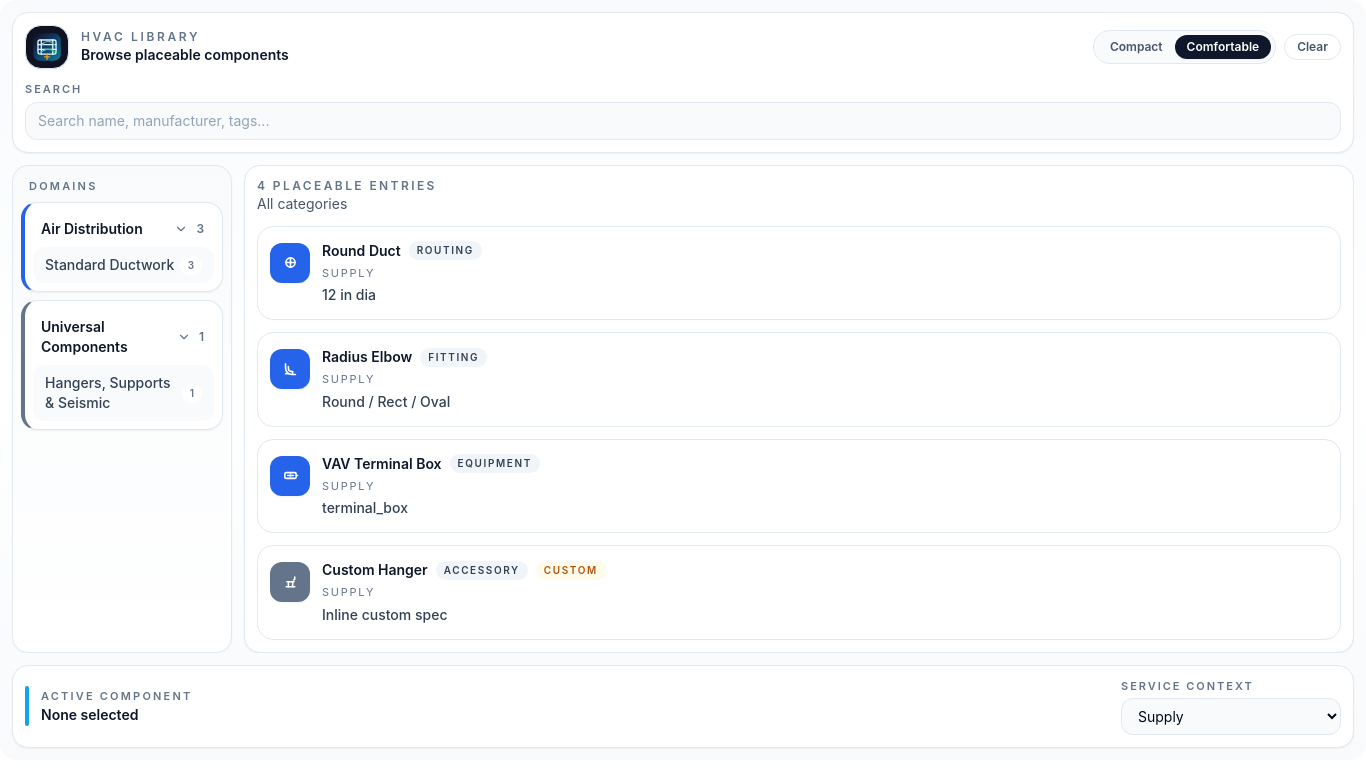
Test: CatalogPanel › collapses domain groups and narrows the tree to search matches
Expected: the button with test id "catalog-category-standard_ductwork" is shown, [33,247,214,283]
Click the button with test id "catalog-root-air_distribution": {"x": 124, "y": 229} [33,211,214,247]
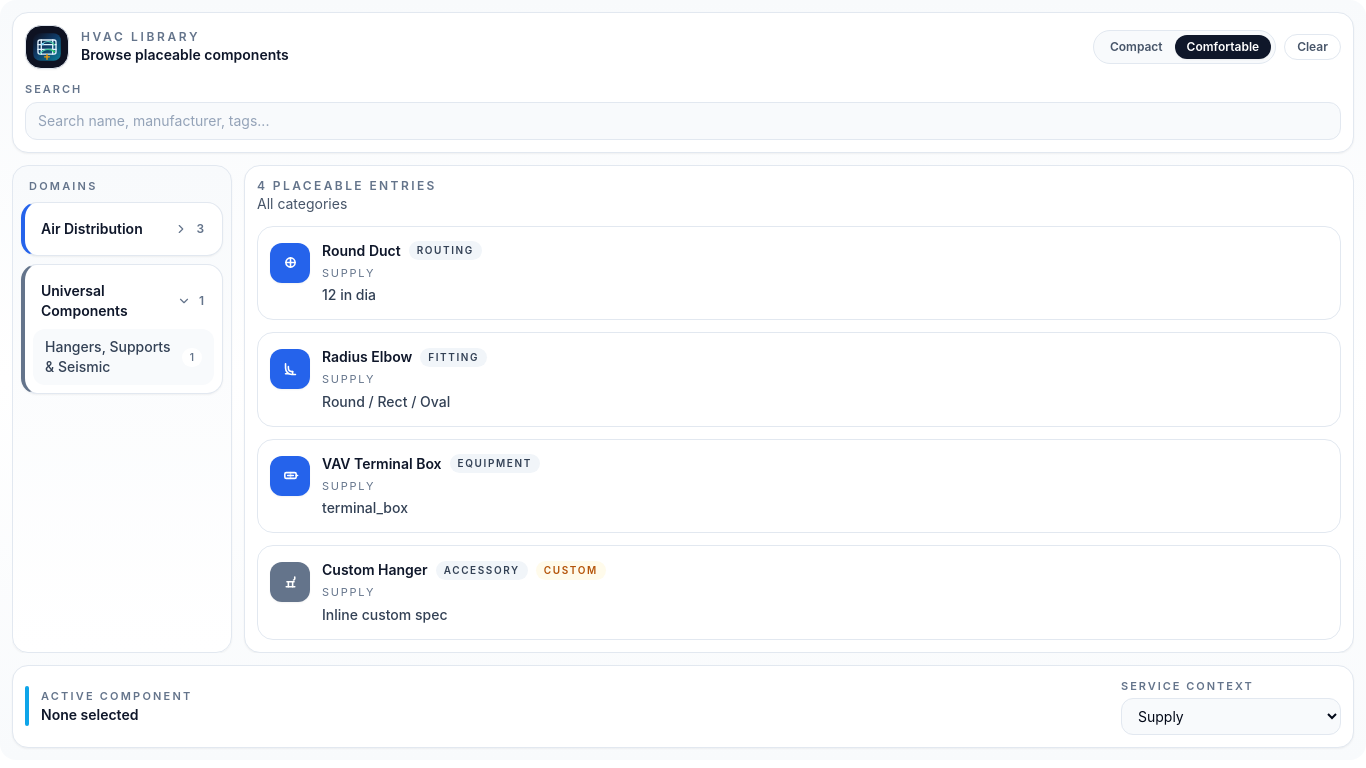
Result: the button with test id "catalog-category-standard_ductwork" is gone
In the field labelled "Search": {"x": 683, "y": 120} [25,102,1341,140], type "supports"
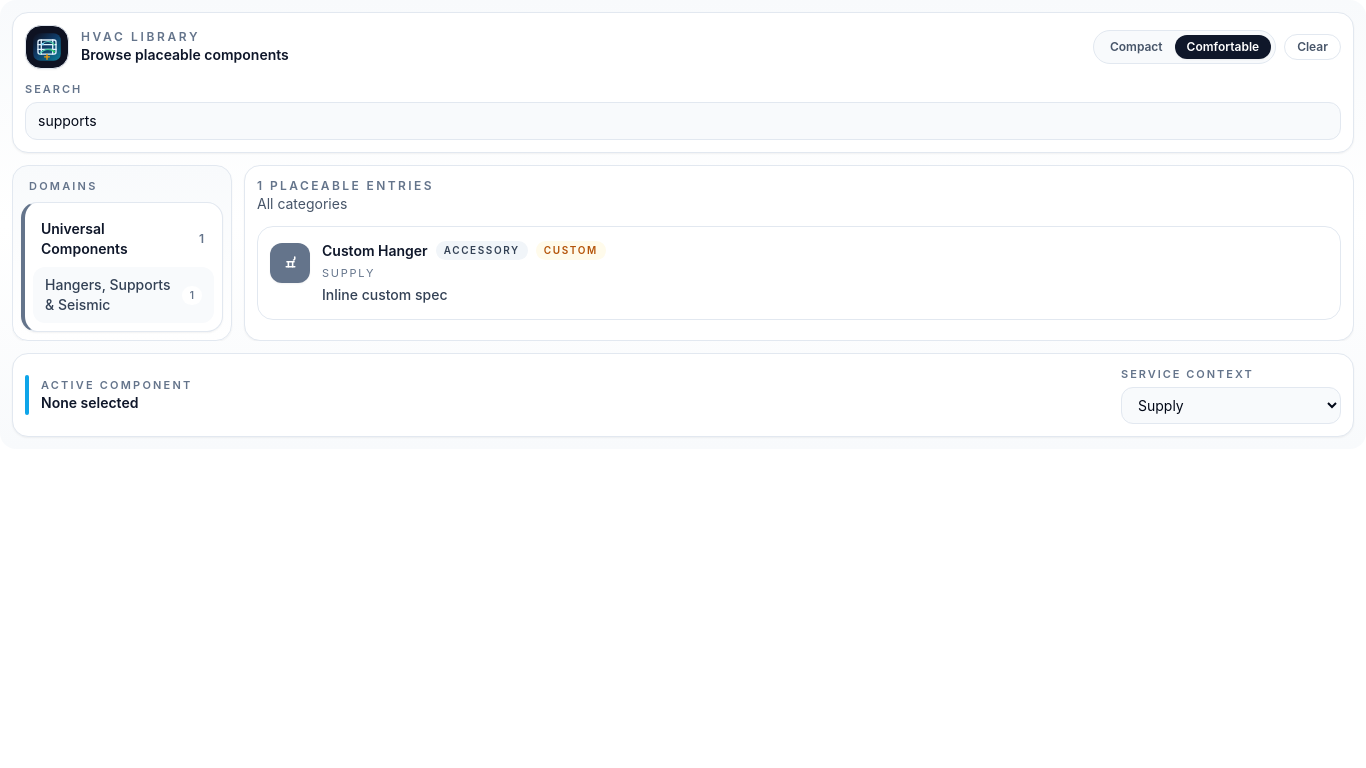
Expected: the button with test id "catalog-root-universal_components" is shown, [33,211,214,267]
Result: the button with test id "catalog-root-air_distribution" is gone
